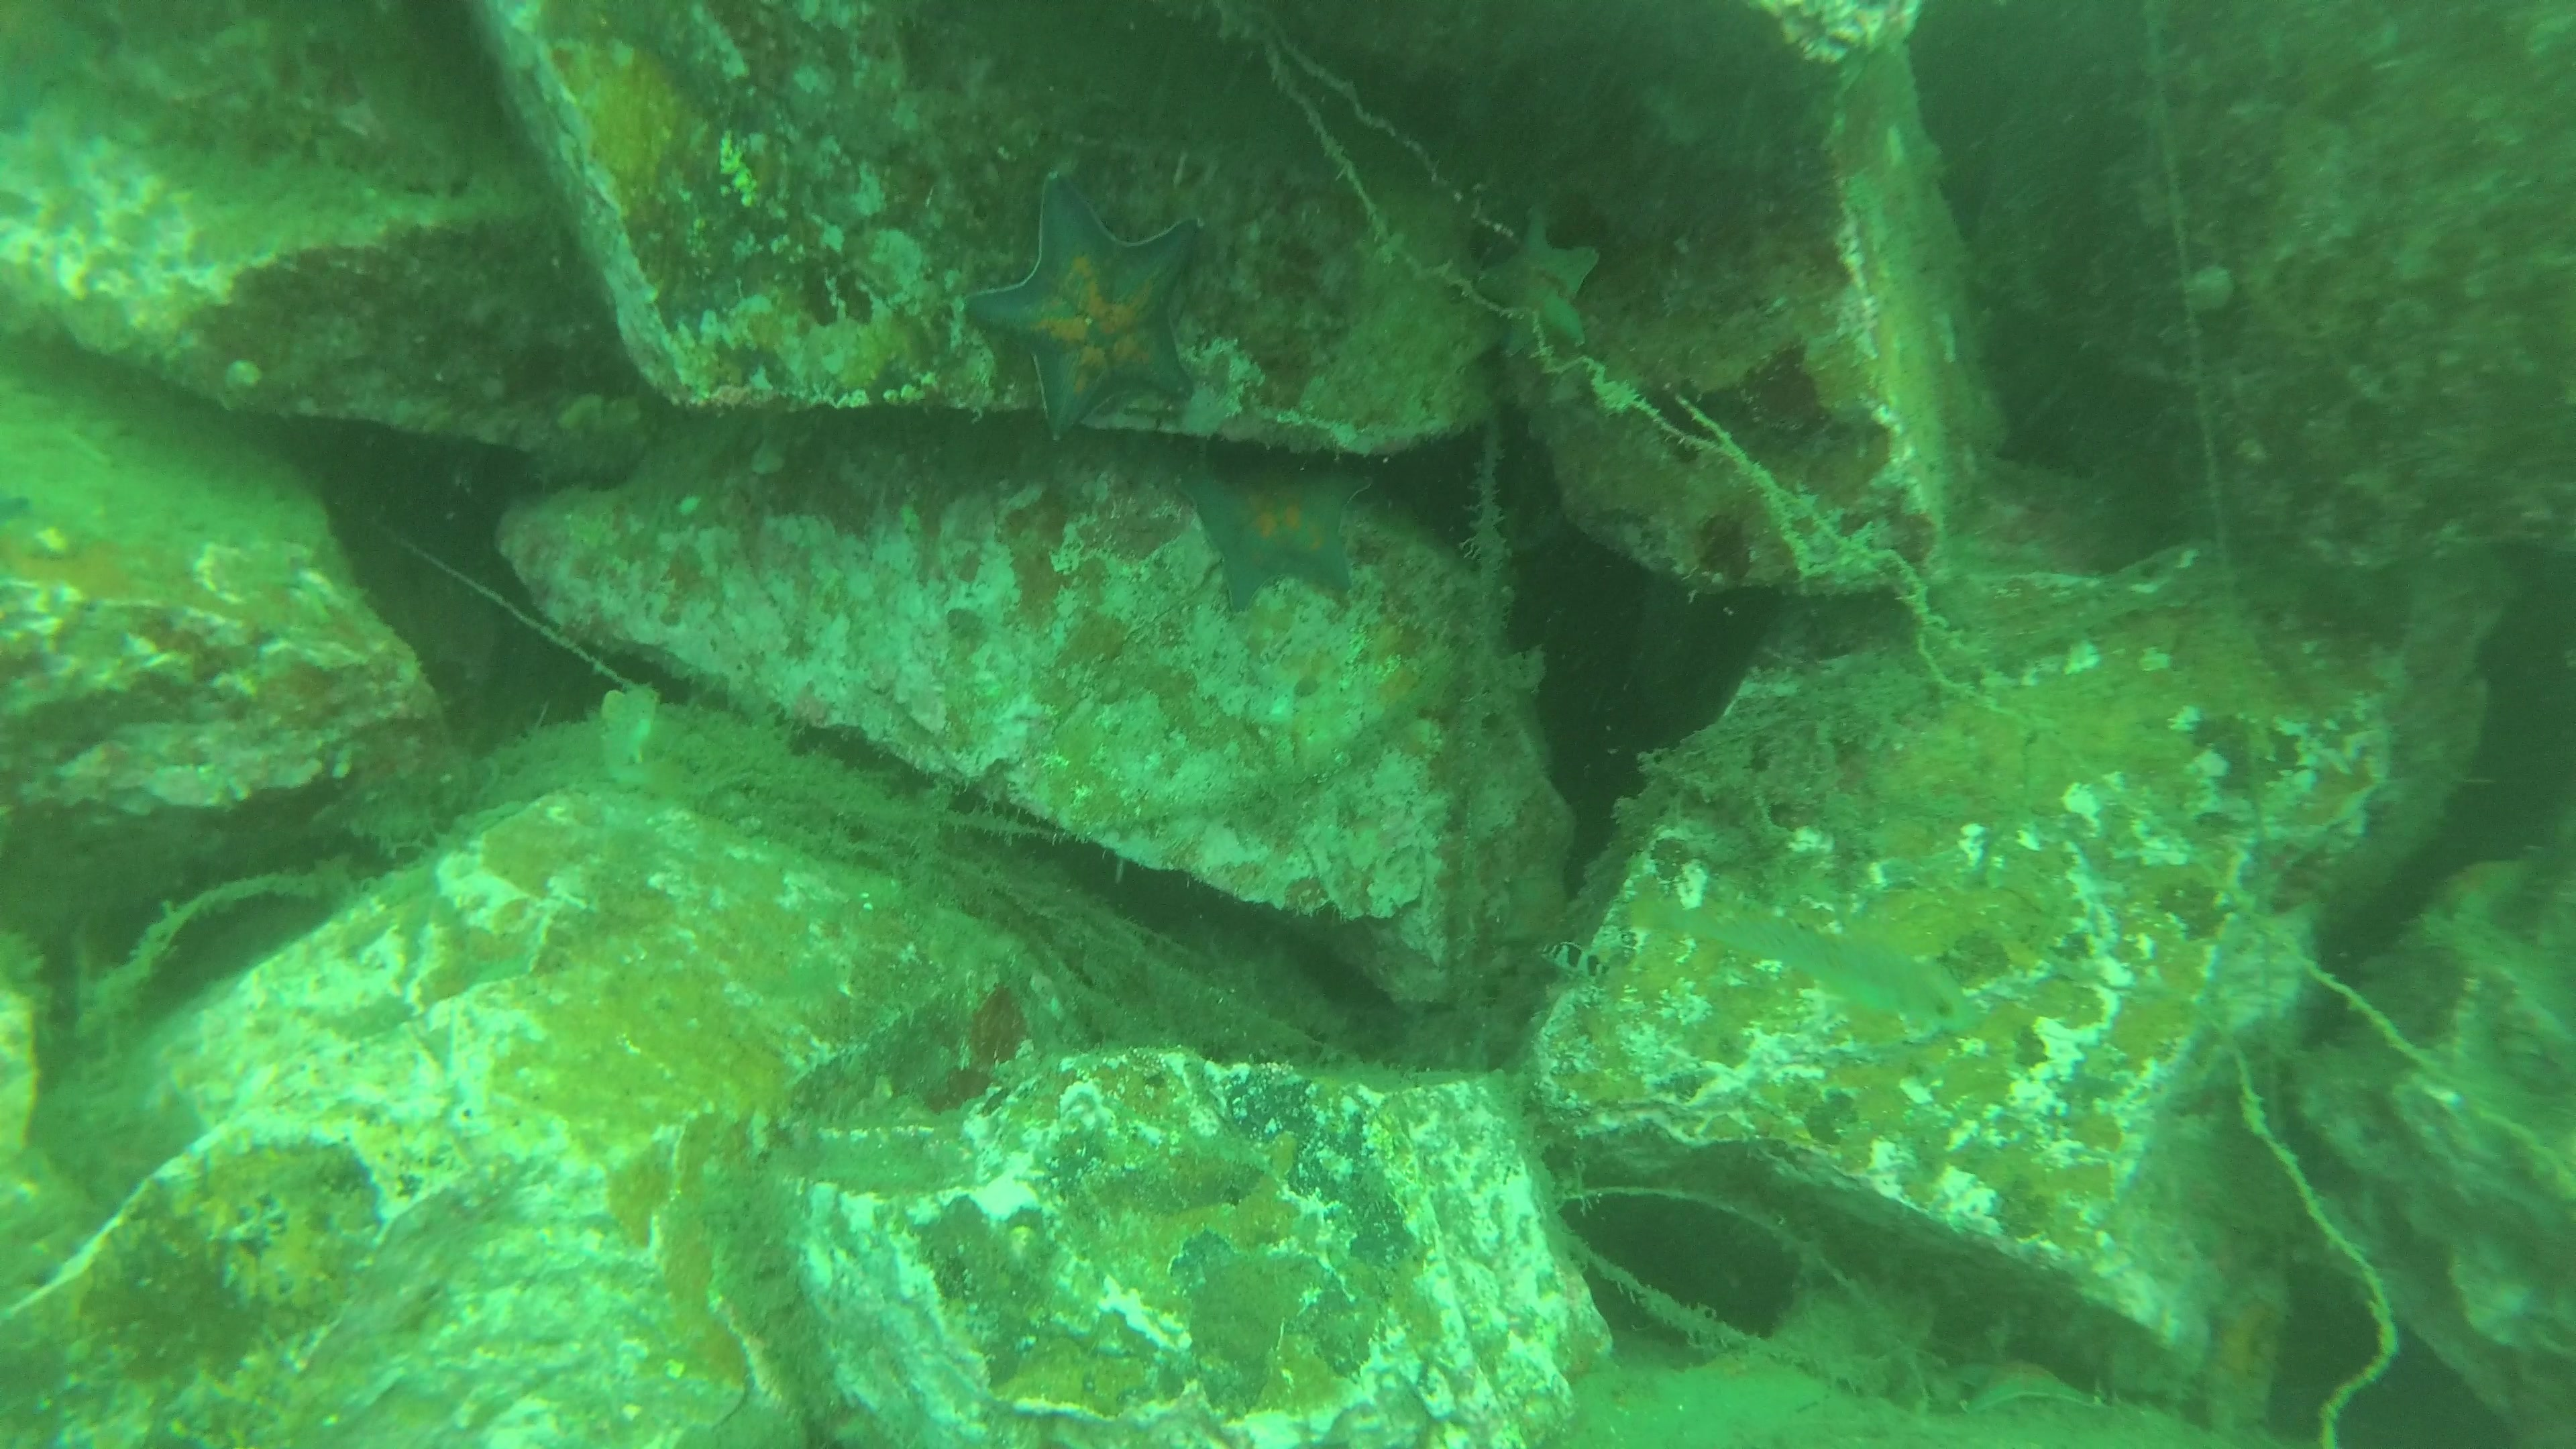starfish: (957, 165, 1207, 446), (1171, 444, 1380, 616), (1474, 211, 1606, 361), (1936, 1357, 2107, 1421)
